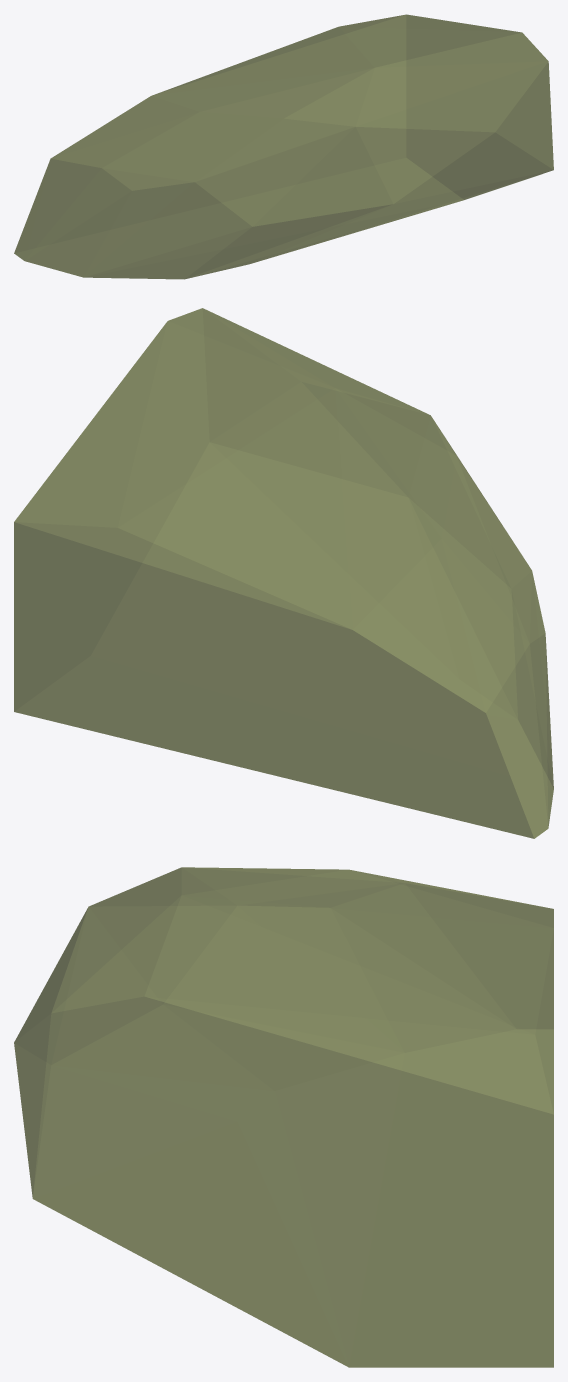
The picture shows the model from 3 angles, top to bottom: view 1: azimuth 30°, elevation 25°; view 2: azimuth 150°, elevation 25°; view 3: azimuth 270°, elevation 25°; orthographic projection. The views are drawn at different scales.
Parts seen in each view (by area): view 1: Shape_IndexedFaceSet.051_Shape_IndexedFaceSet.649; view 2: Shape_IndexedFaceSet.051_Shape_IndexedFaceSet.649; view 3: Shape_IndexedFaceSet.051_Shape_IndexedFaceSet.649.
Part boxes in pixels (x1,y1,x2,y2): Shape_IndexedFaceSet.051_Shape_IndexedFaceSet.649: [14, 14, 553, 279]; Shape_IndexedFaceSet.051_Shape_IndexedFaceSet.649: [14, 308, 553, 838]; Shape_IndexedFaceSet.051_Shape_IndexedFaceSet.649: [14, 867, 553, 1367].
Size of the model in its own units: 0.0801 by 0.041 by 0.054.
